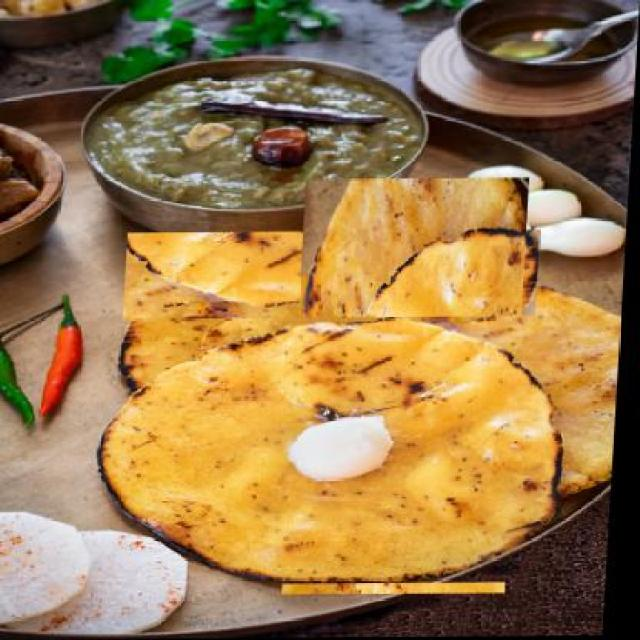chapati: (97, 317, 574, 588), (243, 226, 580, 548), (121, 229, 544, 394)
